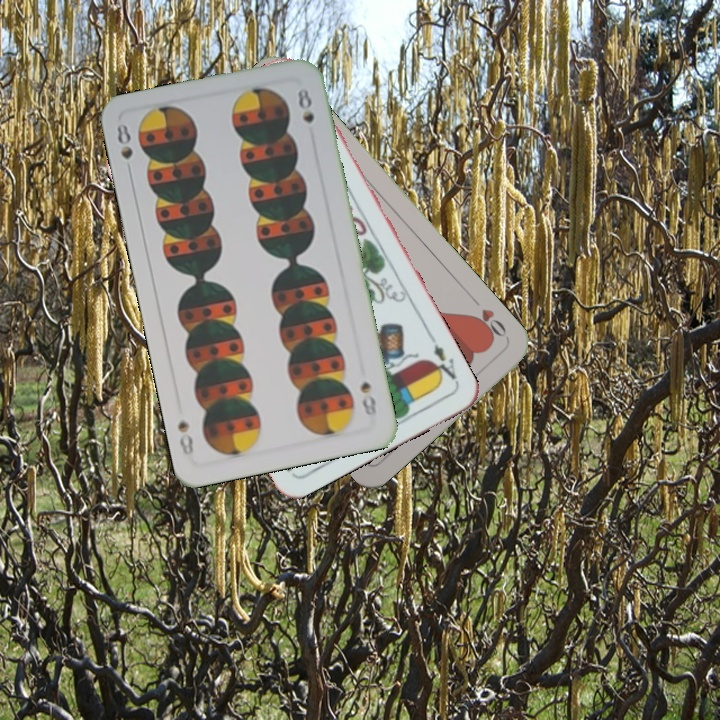EA: (425, 331, 461, 387)
HO: (467, 304, 510, 344)
S8: (113, 119, 136, 178), (356, 378, 379, 418)
